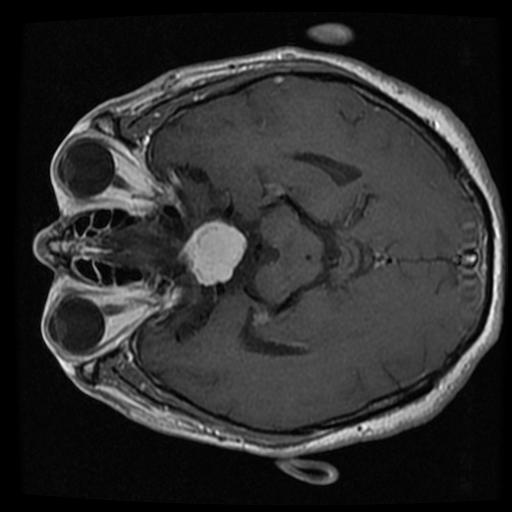meningioma: (178, 220, 247, 288)
